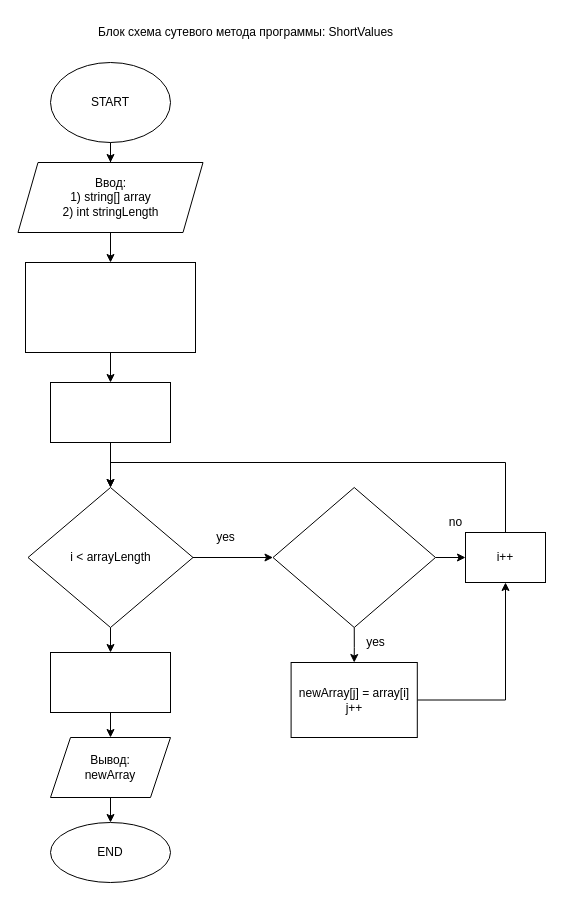
The diagram is 563 pixels wide and 900 high, and some of its shapes have lost their labels. The centre of each missing label's shape, as x and y in pixels:
Array.Resize(ref newArray, j): the point at 110,682
array[i] <= stringLength: the point at 354,557
arrayLength = array.Length string newArray[arrayLength]: the point at 110,307
int i = 0 int j = 0: the point at 110,412
